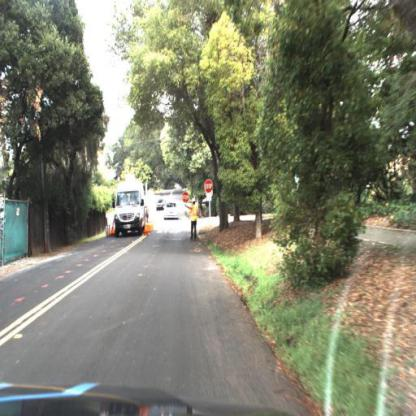car: (113, 173, 151, 238), (164, 201, 179, 219), (155, 198, 165, 217)
pedestrian: (181, 191, 200, 242)
